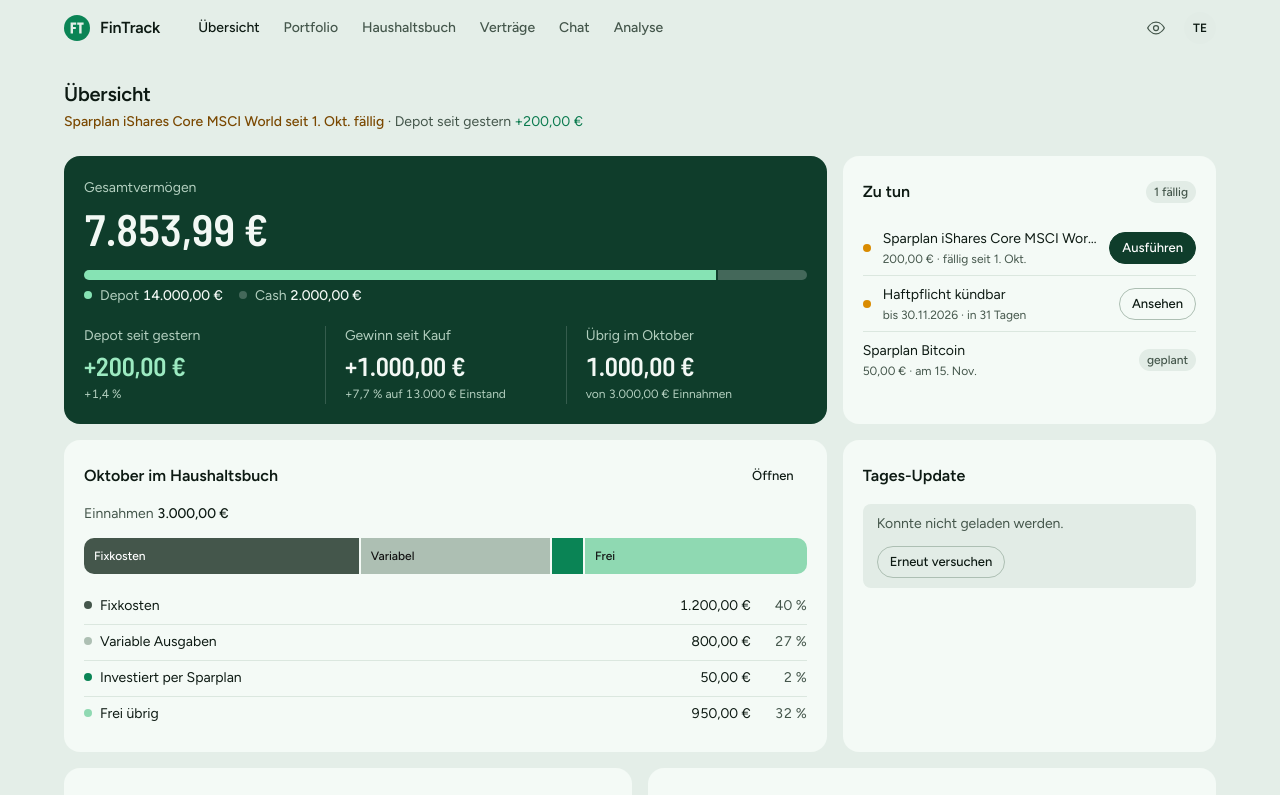
Test: Übersicht › bietet bei einem Ladefehler einen neuen Versuch an
This screenshot has width=1280, height=795.
Expected: the text "Konnte nicht geladen werden." is shown, [877,514,1063,534]
Click the button "Erneut versuchen" at (941, 562), box [877,546,1005,578]
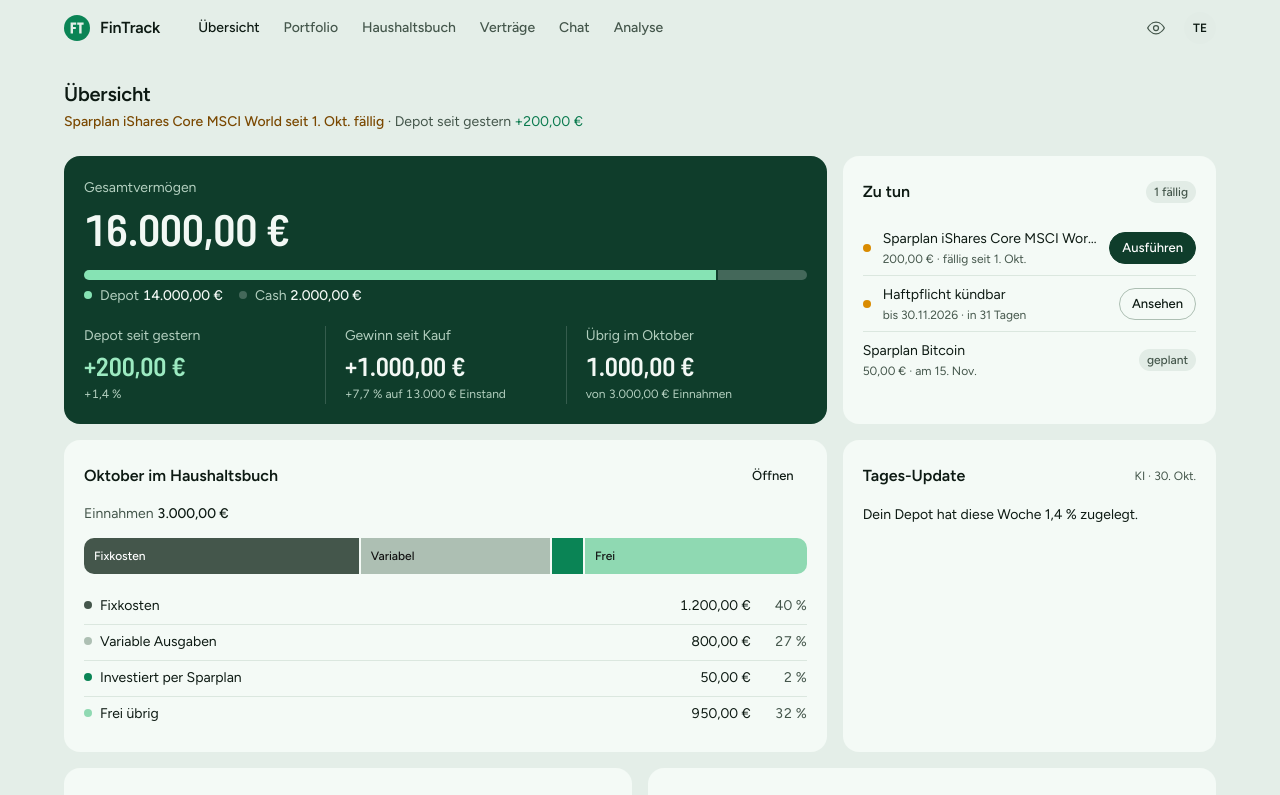
Expected: the text "Dein Depot hat diese Woche 1,4 % zugelegt." is shown, [863,506,1138,523]
